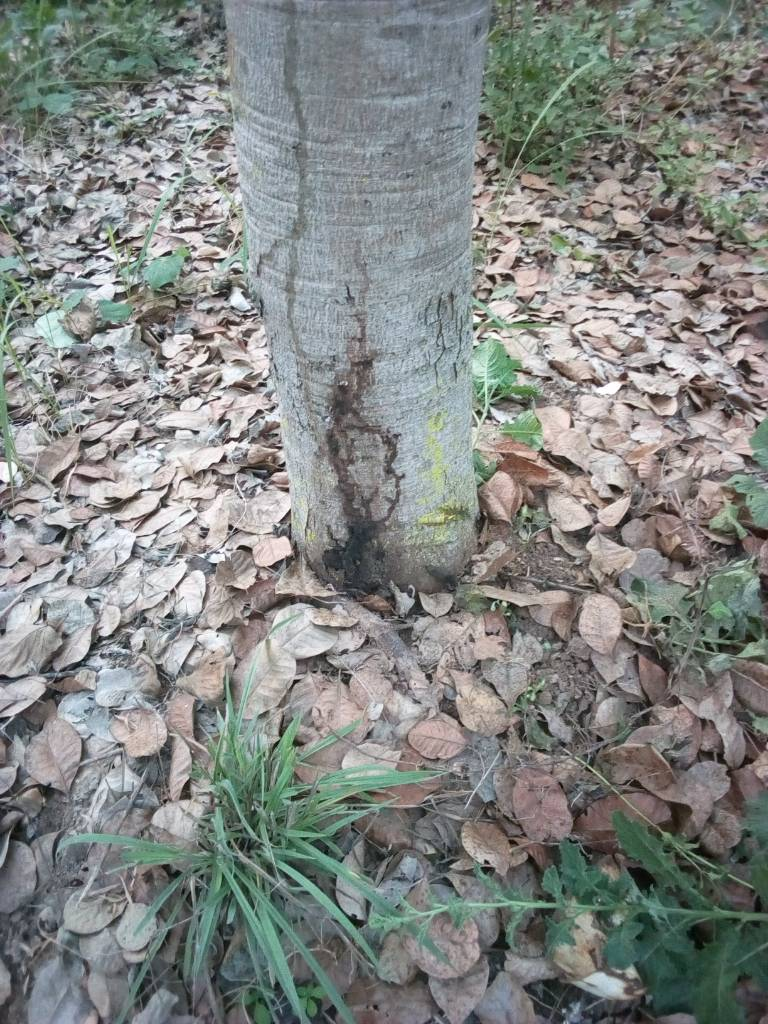Termites: (315, 372, 411, 578), (279, 10, 305, 349)
